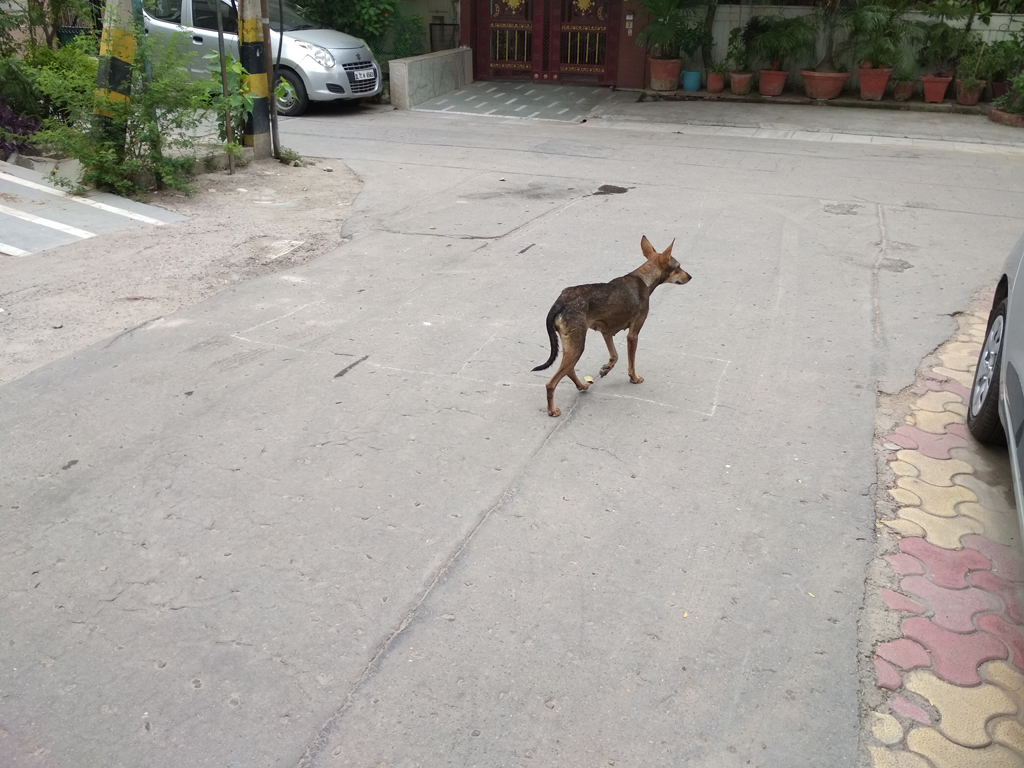dog: (533, 236, 691, 418)
